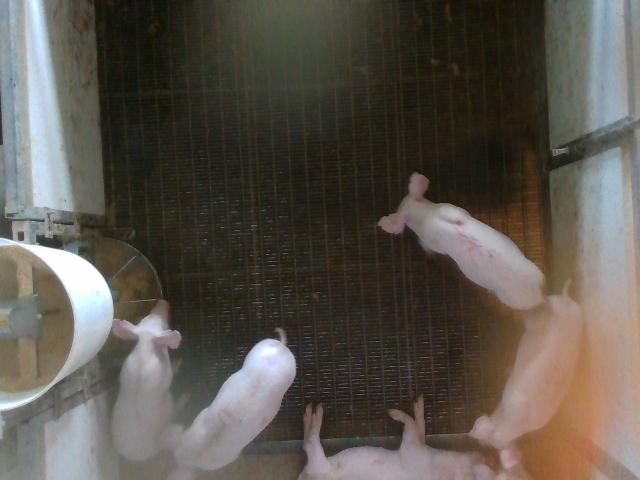pig-3: (159, 329, 296, 478)
pig-4: (470, 294, 582, 470)
pig-5: (379, 172, 545, 309)
